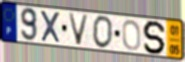9: (19, 7, 39, 43)
O: (91, 14, 114, 50), (121, 19, 142, 52)
S: (142, 20, 168, 56)
V: (66, 12, 90, 47)
X: (39, 9, 63, 45)
